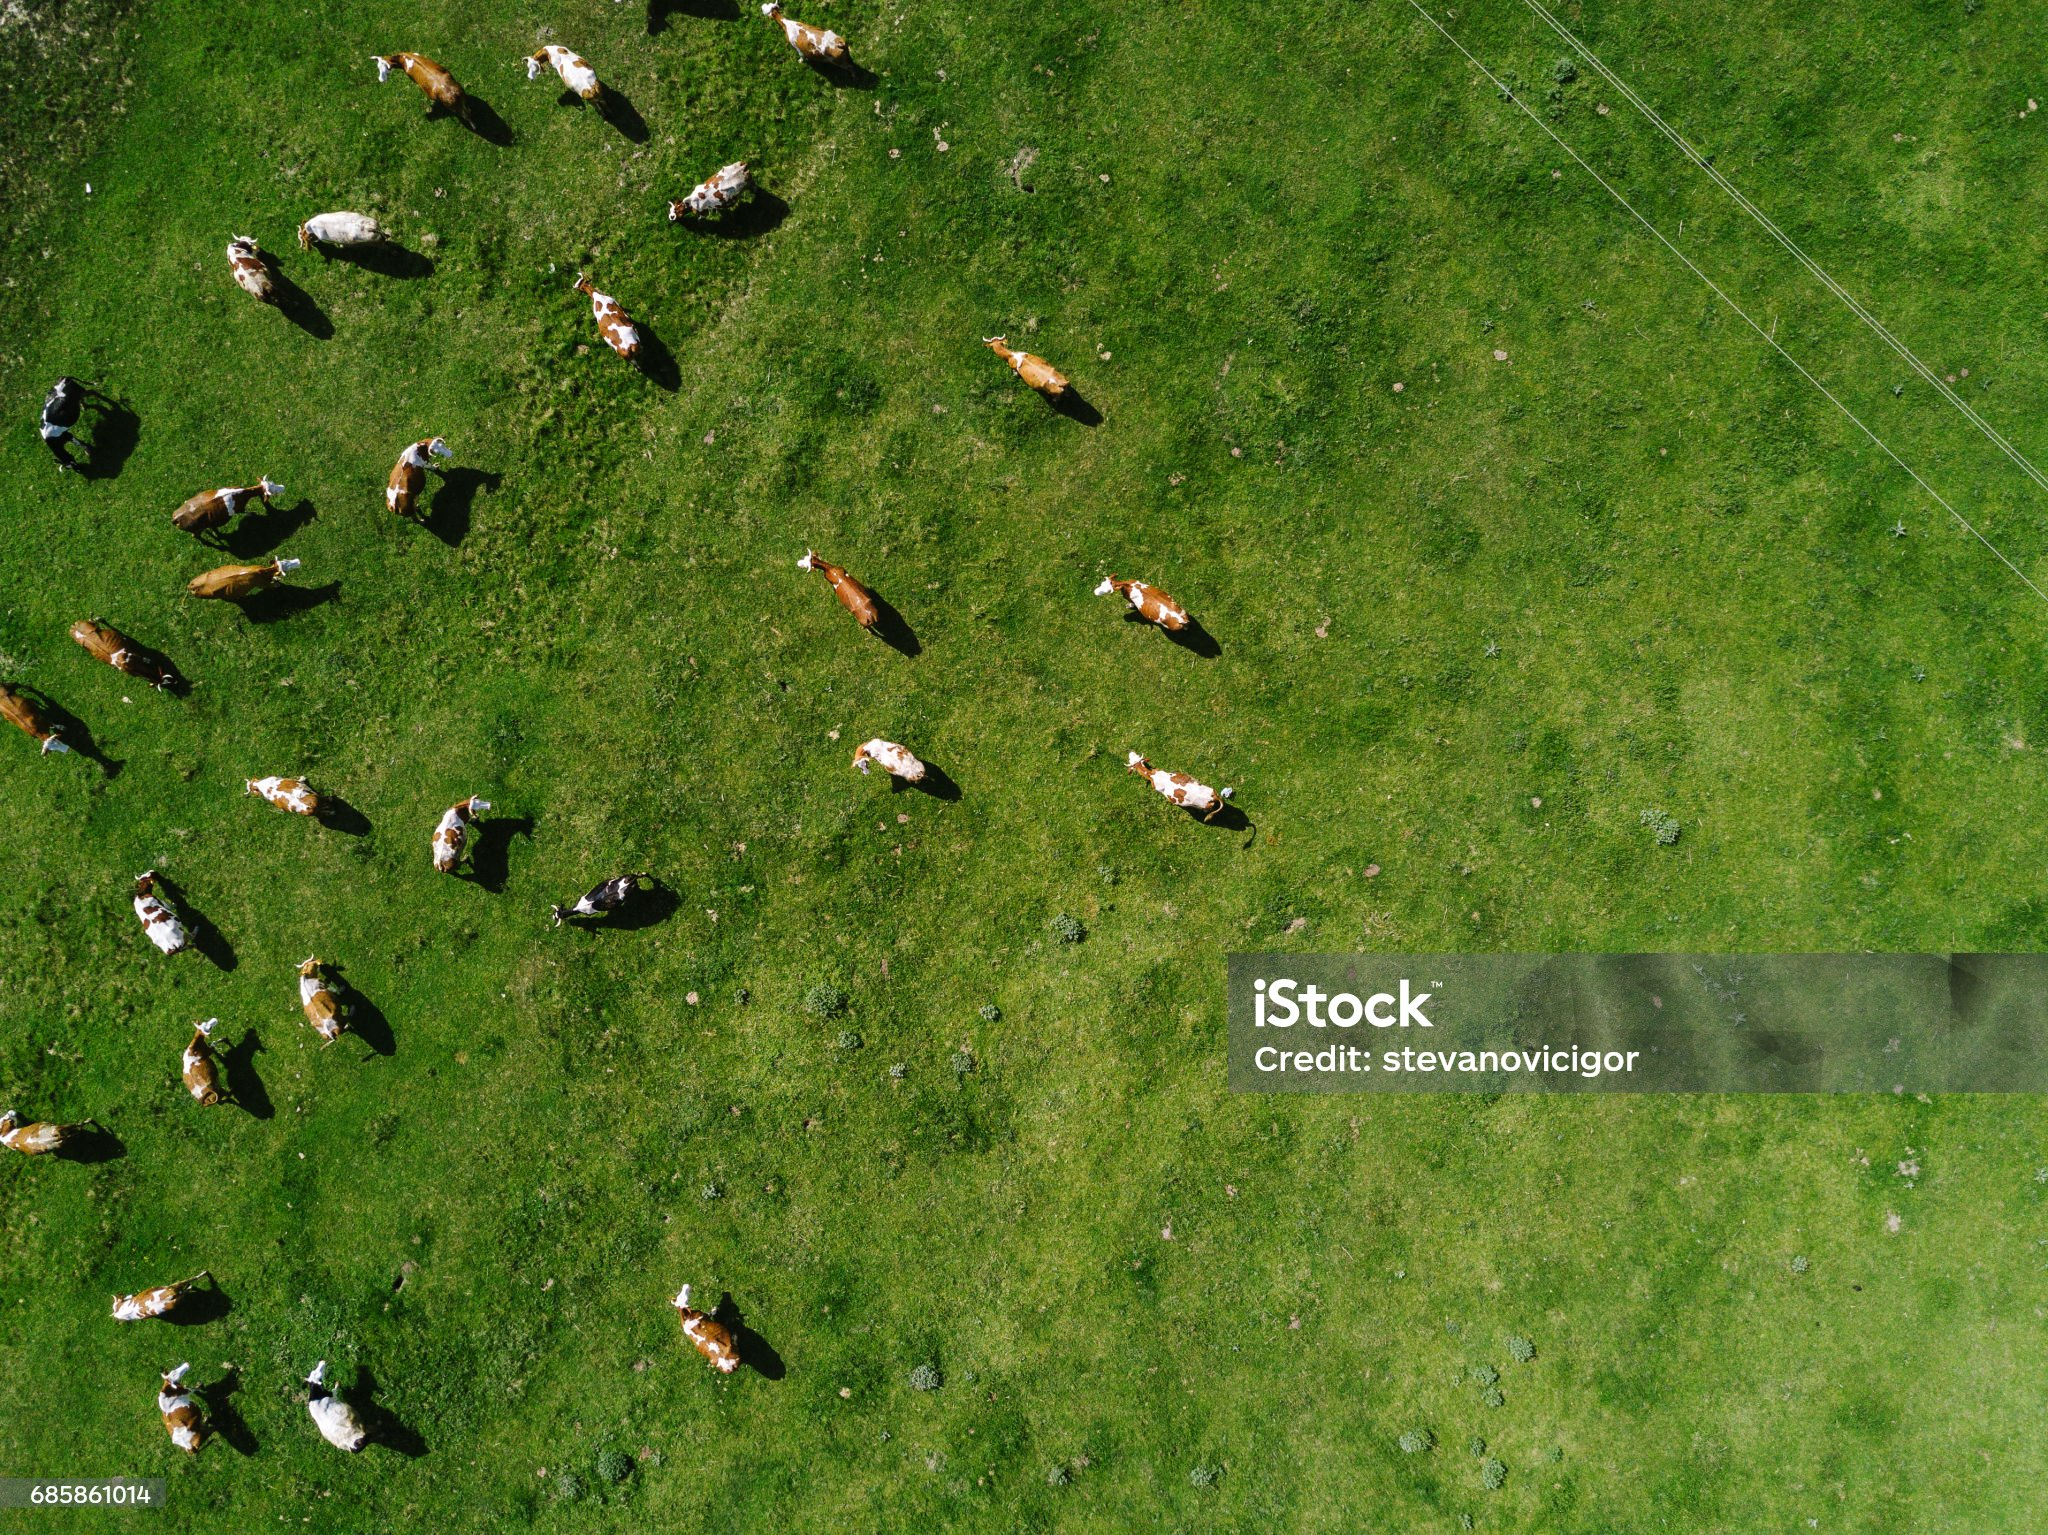cattle: (661, 1275, 753, 1391), (1116, 742, 1229, 830), (156, 472, 289, 547), (748, 2, 866, 82), (1097, 568, 1206, 653), (297, 1356, 381, 1462), (560, 268, 648, 368), (368, 47, 469, 129), (118, 864, 198, 967), (653, 160, 766, 232), (285, 945, 358, 1058), (519, 35, 616, 119), (797, 542, 880, 639), (984, 331, 1085, 406), (550, 871, 651, 943), (384, 434, 453, 539), (145, 1364, 218, 1459), (166, 1016, 237, 1111), (176, 560, 305, 611), (423, 795, 493, 888), (34, 372, 97, 477), (61, 613, 145, 688), (103, 1272, 216, 1327), (2, 684, 74, 767), (2, 1100, 89, 1167), (289, 203, 397, 256), (845, 732, 927, 797), (237, 772, 327, 830), (214, 232, 277, 310)
